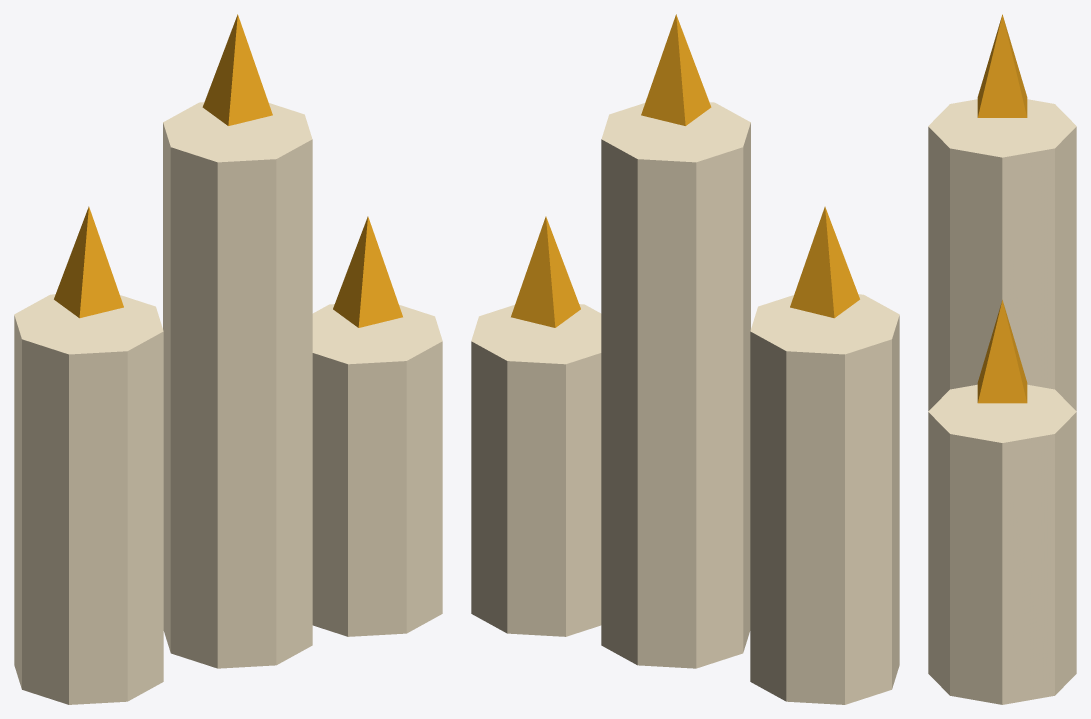
Rendered from Candles.fbx.
3 renders of one model, left to right at view 1: azimuth 30°, elevation 25°; view 2: azimuth 150°, elevation 25°; view 3: azimuth 270°, elevation 25°, orthographic. The views are drawn at different scales.
Visible parts, largest first — view 1: Candles; view 2: Candles; view 3: Candles.
Boxes of the visible parts, box(x1,y1,x2,y2) form: Candles: box(14, 14, 442, 704); Candles: box(471, 14, 899, 704); Candles: box(928, 14, 1076, 704).
Bounding box in the file's own units: 1.11 × 1.6 × 0.36.
1 material, 1 textured.
